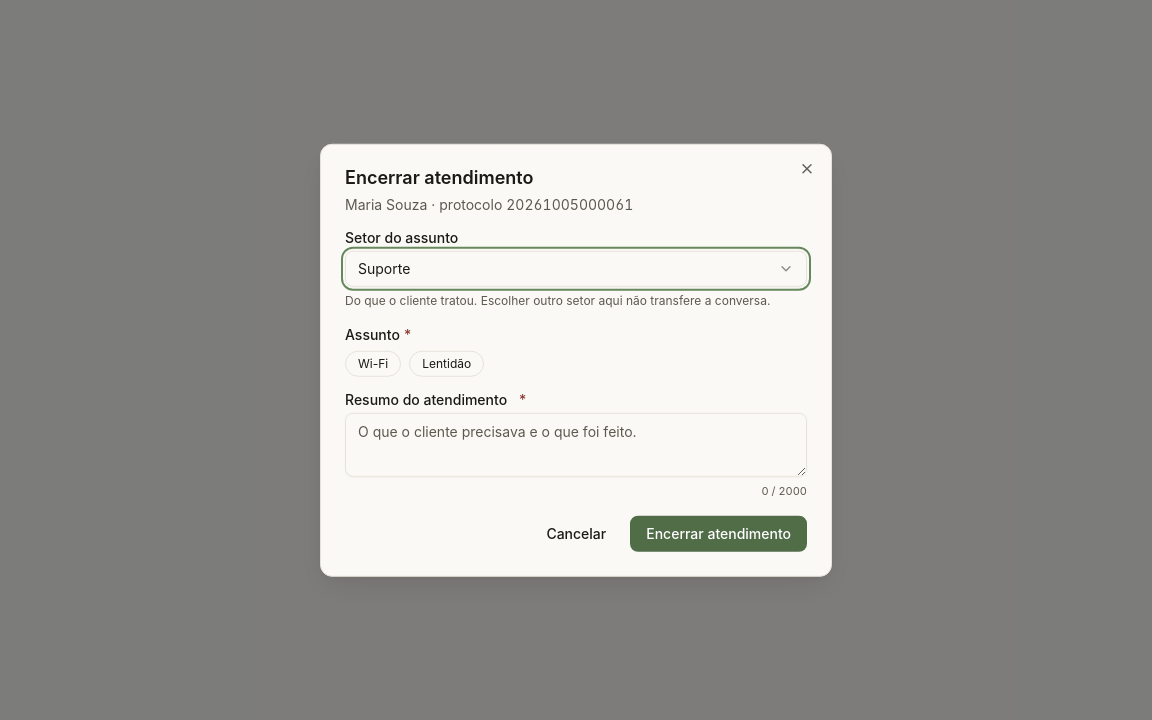
Test: a janela de encerramento › os dois exigidos e em branco: marca os dois campos e NÃO manda nada
The image size is (1152, 720).
What coordinates should you click on to do the following:
click the button with test id "encerramento-confirmar"
I would click on:
 (719, 533)
Its box is [630,515,807,551].
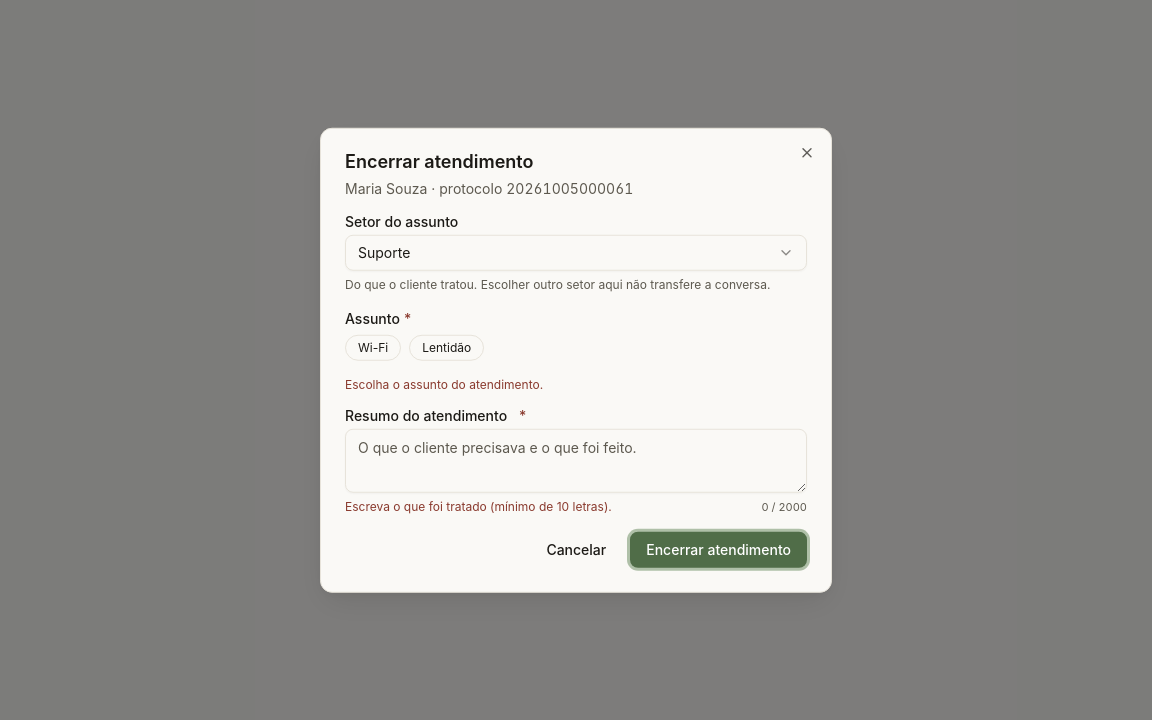
Result: the message with test id "encerramento-erro-assunto" reads "Escolha o assunto do atendimento." at [345,377,543,392]
Result: the message with test id "encerramento-erro-resumo" reads "Escreva o que foi tratado (mínimo de 10 letras)." at [345,499,612,514]
